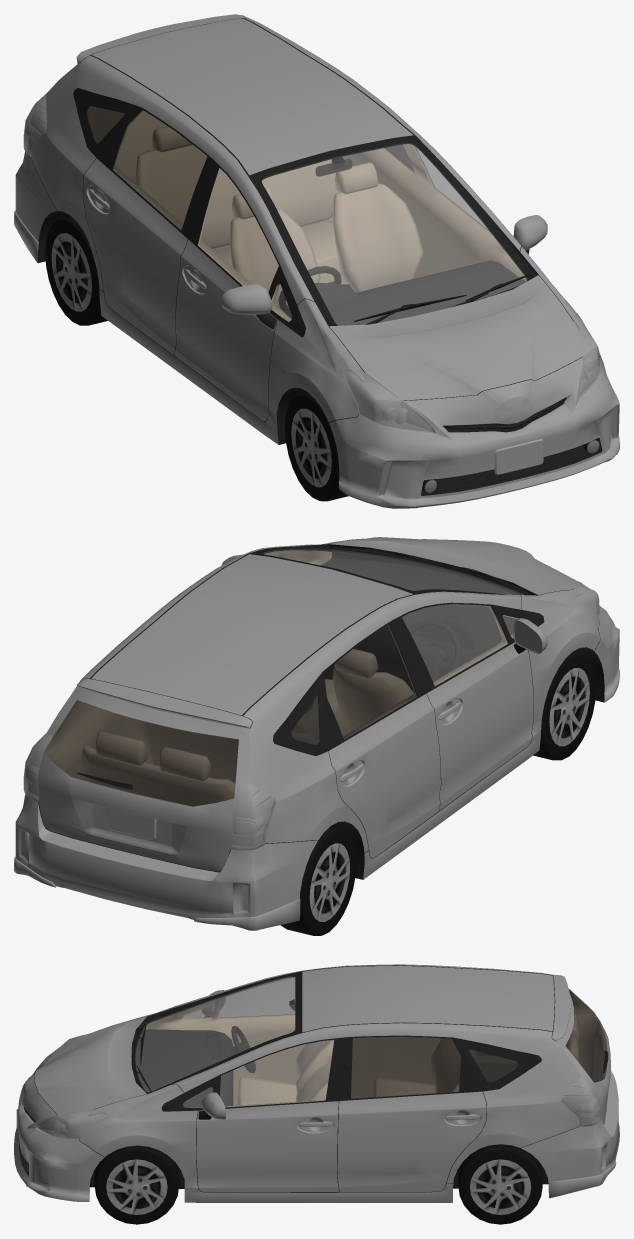
Rendered from Prius.FBX.
3 views of the same model, one above another, from view 1: azimuth 30°, elevation 25°; view 2: azimuth 150°, elevation 25°; view 3: azimuth 270°, elevation 25° (orthographic). The views are drawn at different scales.
Parts seen in each view (by area): view 1: Prius; view 2: Prius; view 3: Prius.
Part boxes in pixels (x1,y1,x2,y2): Prius: (14, 14, 619, 508); Prius: (14, 537, 619, 935); Prius: (14, 964, 619, 1224).
Size of the model in its own units: 2.17 by 1.57 by 4.67.
